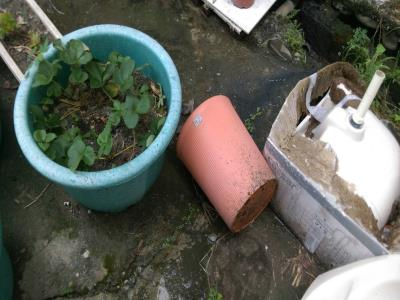box: (262, 60, 400, 267)
bucket: (174, 91, 280, 238)
